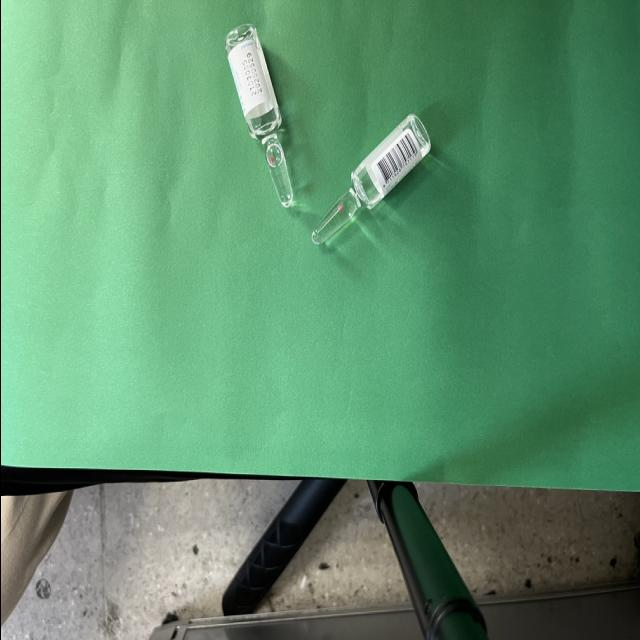Ampoules: (311, 113, 431, 245), (224, 23, 292, 207)
